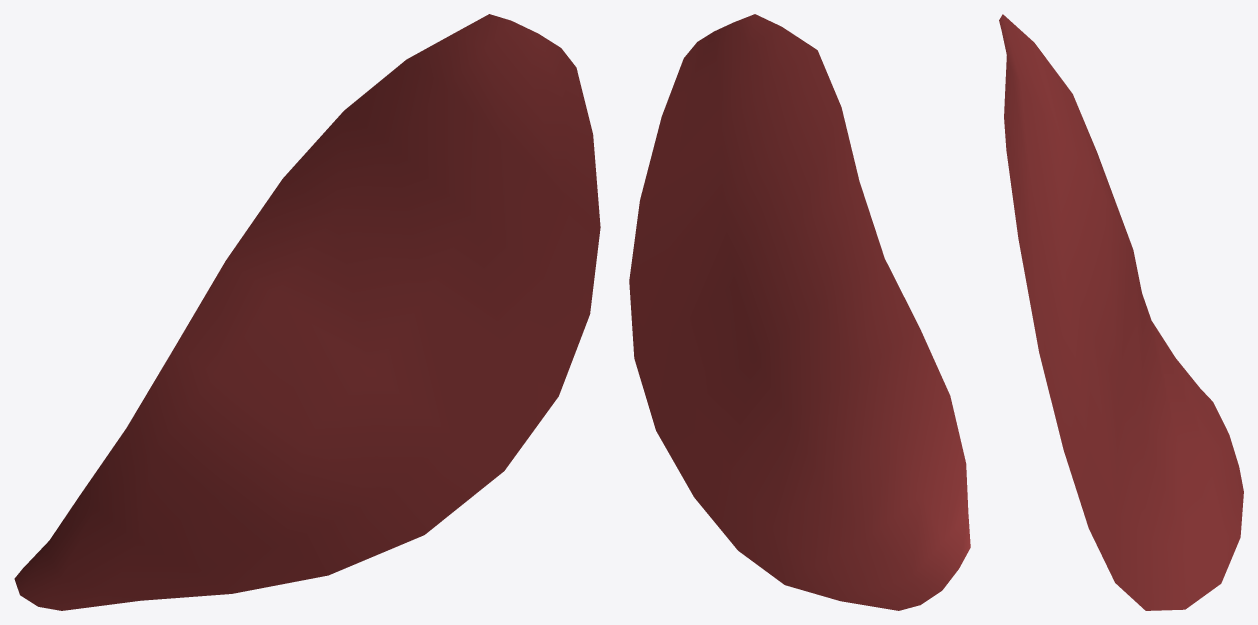
File: medial-subtendinous-bursa-of-gastrocnemius-muscle-l.glb
The picture shows the model from 3 angles, left to right: view 1: azimuth 30°, elevation 25°; view 2: azimuth 150°, elevation 25°; view 3: azimuth 270°, elevation 25°; orthographic projection. The views are drawn at different scales.
Visible parts, largest first — view 1: Medial subtendinous bursa of gastrocnemius muscle.l; view 2: Medial subtendinous bursa of gastrocnemius muscle.l; view 3: Medial subtendinous bursa of gastrocnemius muscle.l.
Part boxes in pixels (left/top/right/bottom): Medial subtendinous bursa of gastrocnemius muscle.l: left=14, top=14, right=600, bottom=610; Medial subtendinous bursa of gastrocnemius muscle.l: left=629, top=14, right=970, bottom=610; Medial subtendinous bursa of gastrocnemius muscle.l: left=999, top=14, right=1243, bottom=610.
Size of the model in its own units: 0.0159 by 0.0187 by 0.00662.
